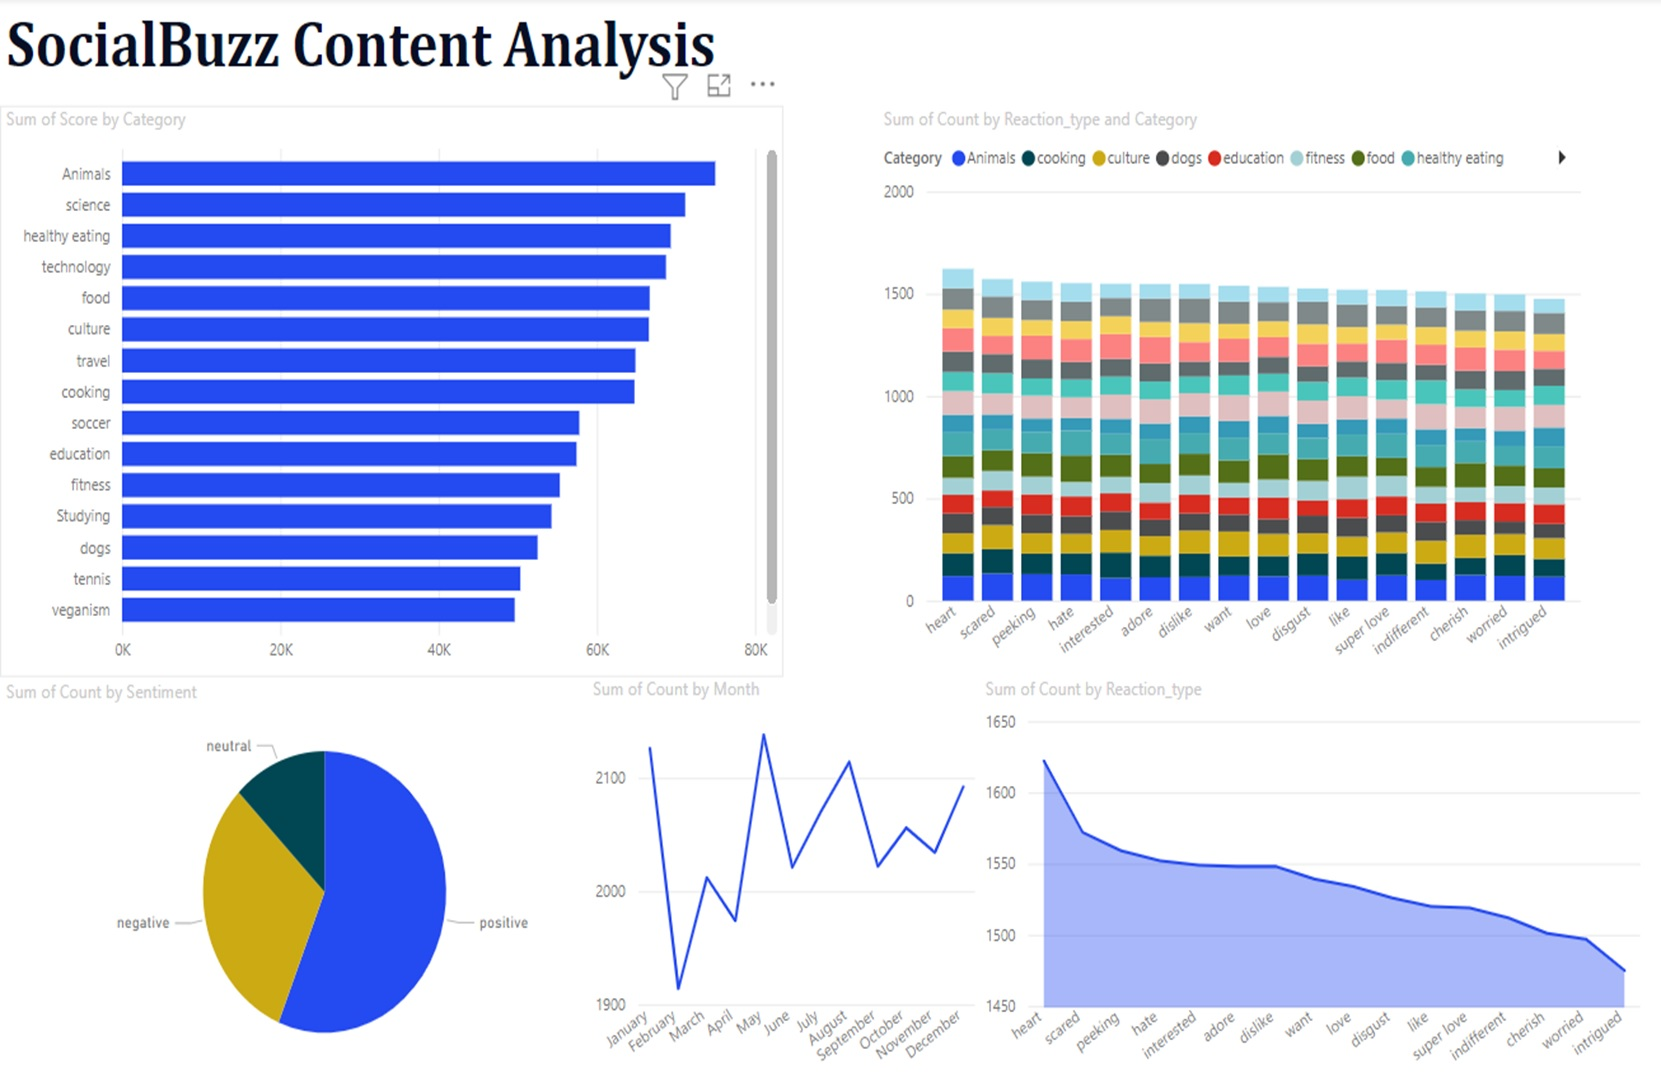

What the dashboard file says about the page in this screenshot:
{"tool":"powerbi","page":{"name":"Page 1","canvas":[1280,720],"ordinal":0},"visuals":[{"type":"clusteredBarChart","fields":{"Category":["Table 1 (Sheet1).Category"],"Y":["Sum(Table 1 (Sheet1).Score)"]},"box":[0,72.1,602.6,446.2],"z":4},{"type":"textbox","box":[0,0,790.4,72.7],"z":5},{"type":"pieChart","fields":{"Category":["Table 1 (Sheet1).Sentiment"],"Y":["Sum(Table 1 (Sheet1).Count)"]},"box":[0,545.2,498.7,174.8],"z":6},{"type":"columnChart","fields":{"Category":["Table 1 (Sheet1).Category"],"Y":["CountNonNull(Table 1 (Sheet1).Reaction_type)"]},"box":[675.1,72.7,546.1,378.7],"z":7},{"type":"lineChart","fields":{"Category":["Table 1 (Sheet1).Date.Variation.Date Hierarchy.Month"],"Y":["Sum(Table 1 (Sheet1).Count)"]},"box":[451.1,545.2,303.2,174.8],"z":8},{"type":"areaChart","fields":{"Category":["Table 1 (Sheet1).Reaction_type"],"Y":["Sum(Table 1 (Sheet1).Count)"]},"box":[753.3,451.5,513.2,269],"z":9}]}

Visuals, with their boxes on the page's 1280x720 design canvas (x1, y1, x2, y2). These are canvas units, not pixel positions in the 1661x1078 screenshot, which may show the page scaled, cropped or inside an application window:
clusteredBarChart - Table 1 (Sheet1).Category x Sum(Table 1 (Sheet1).Score): (x1=0, y1=72, x2=603, y2=518)
textbox: (x1=0, y1=0, x2=790, y2=73)
pieChart - Table 1 (Sheet1).Sentiment x Sum(Table 1 (Sheet1).Count): (x1=0, y1=545, x2=499, y2=720)
columnChart - Table 1 (Sheet1).Category x CountNonNull(Table 1 (Sheet1).Reaction_type): (x1=675, y1=73, x2=1221, y2=451)
lineChart - Table 1 (Sheet1).Date.Variation.Date Hierarchy.Month x Sum(Table 1 (Sheet1).Count): (x1=451, y1=545, x2=754, y2=720)
areaChart - Table 1 (Sheet1).Reaction_type x Sum(Table 1 (Sheet1).Count): (x1=753, y1=452, x2=1266, y2=720)
